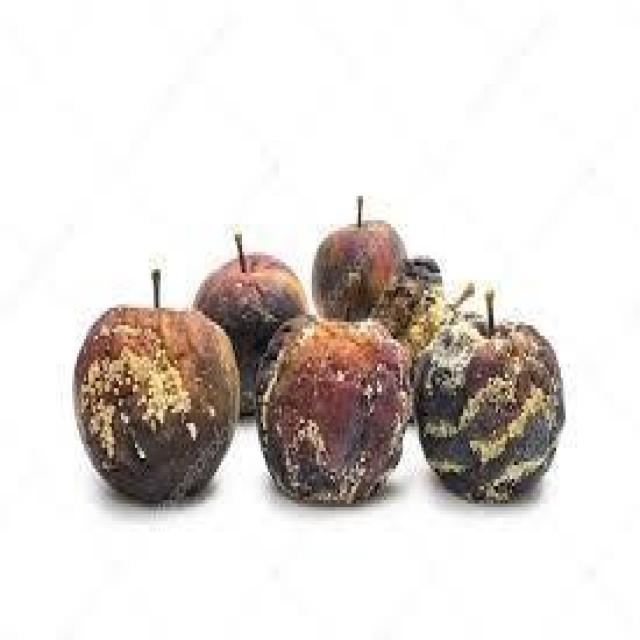maca: (72, 192, 566, 507), (412, 280, 565, 503), (72, 301, 240, 504), (254, 311, 412, 504), (191, 230, 307, 412)
